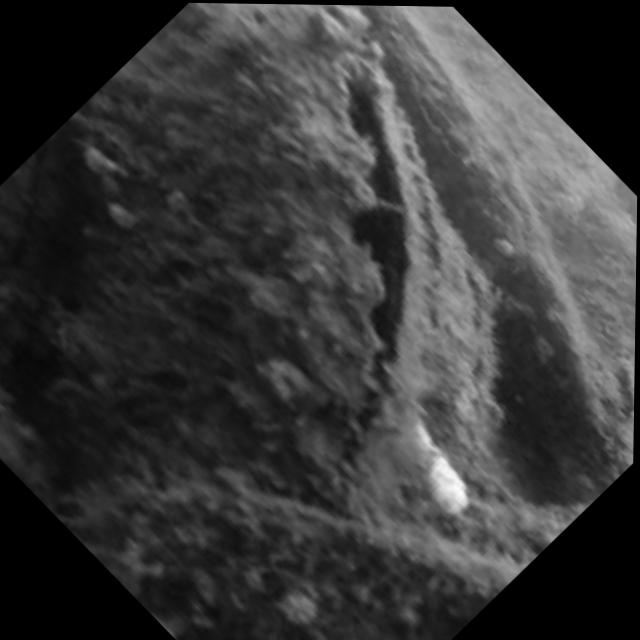Oyster-Closed: (213, 3, 640, 489)
Oyster-Indeterminate: (73, 459, 518, 640), (382, 6, 637, 238), (569, 196, 637, 432)
Oyster-Open: (0, 3, 496, 542), (225, 3, 404, 63)
